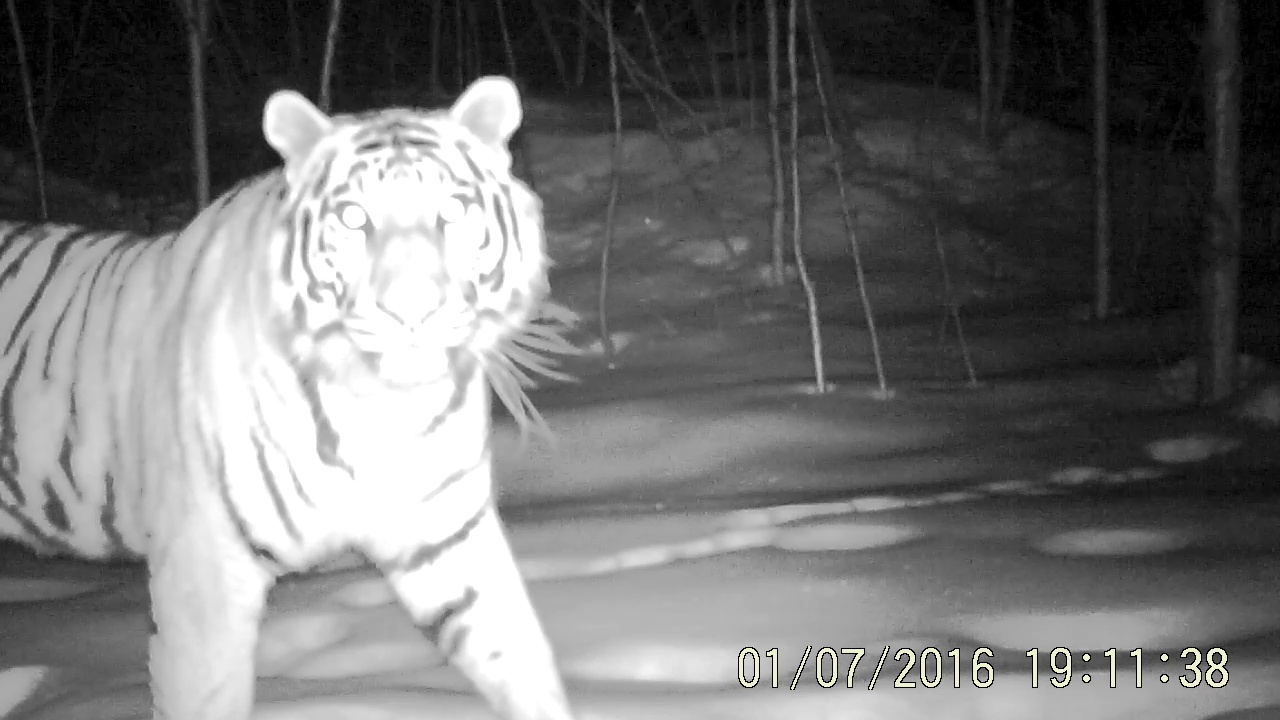Tiger: (1, 13, 614, 720)
